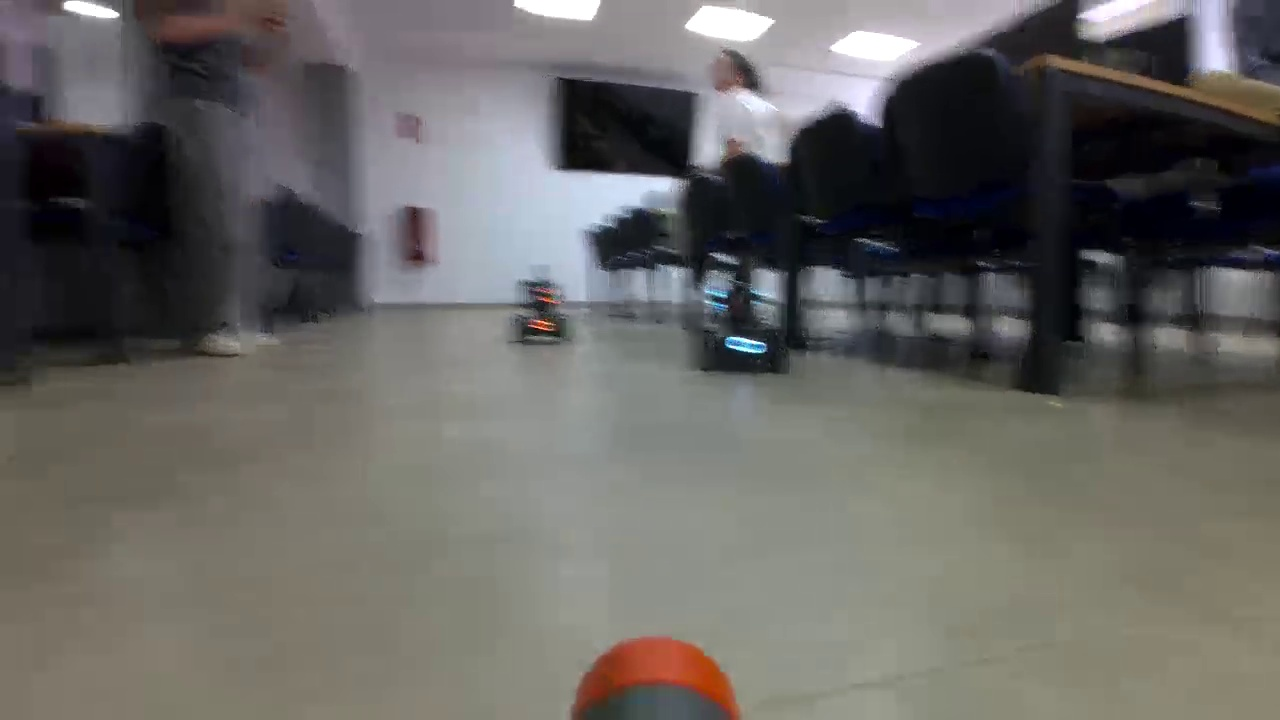robot: (706, 266, 790, 372), (512, 276, 570, 345)
